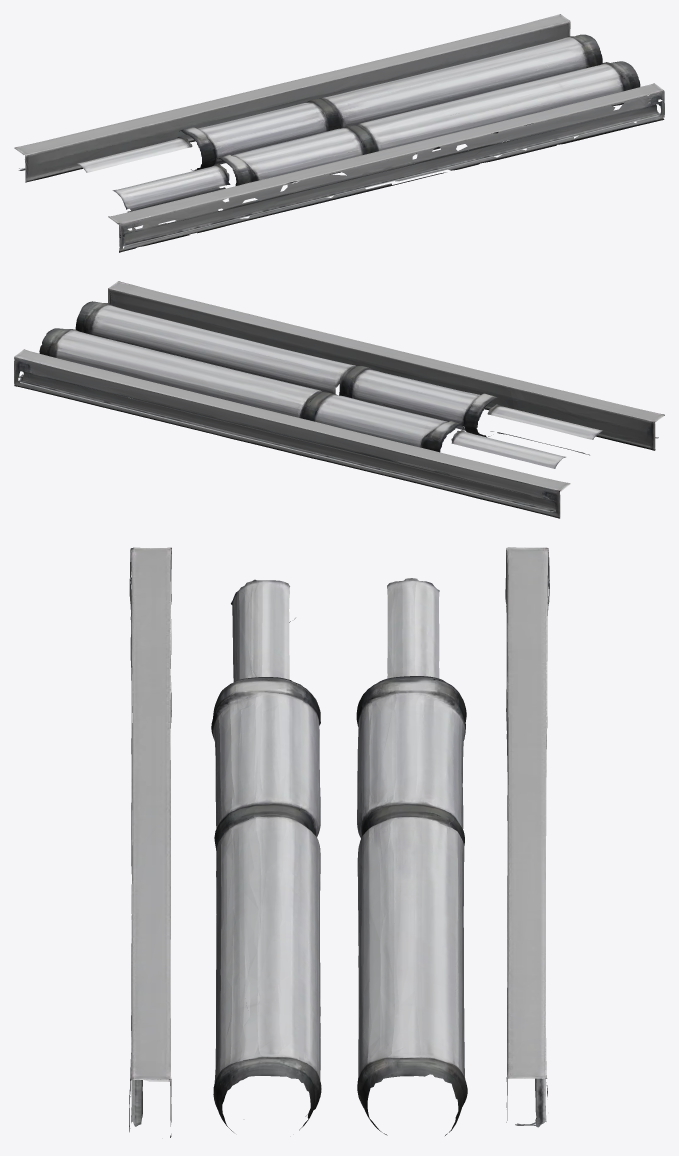
The picture shows the model from 3 angles, top to bottom: view 1: azimuth 30°, elevation 25°; view 2: azimuth 150°, elevation 25°; view 3: azimuth 270°, elevation 25°; orthographic projection. The views are drawn at different scales.
Parts seen in each view (by area): view 1: geometry_0; view 2: geometry_0; view 3: geometry_0.
Boxes of the visible parts, <box> form: geometry_0: <box>14,14,664,252</box>; geometry_0: <box>14,281,664,518</box>; geometry_0: <box>129,547,549,1137</box>.
Size of the model in its own units: 1 by 0.0611 by 0.3338.
1 material, 1 textured.
